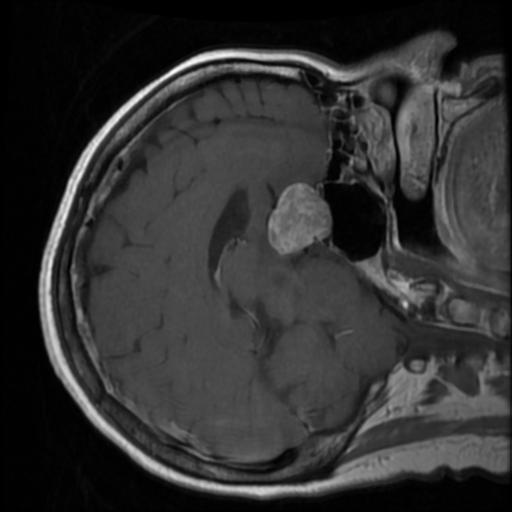pituitary tumour: (266, 183, 330, 256)
